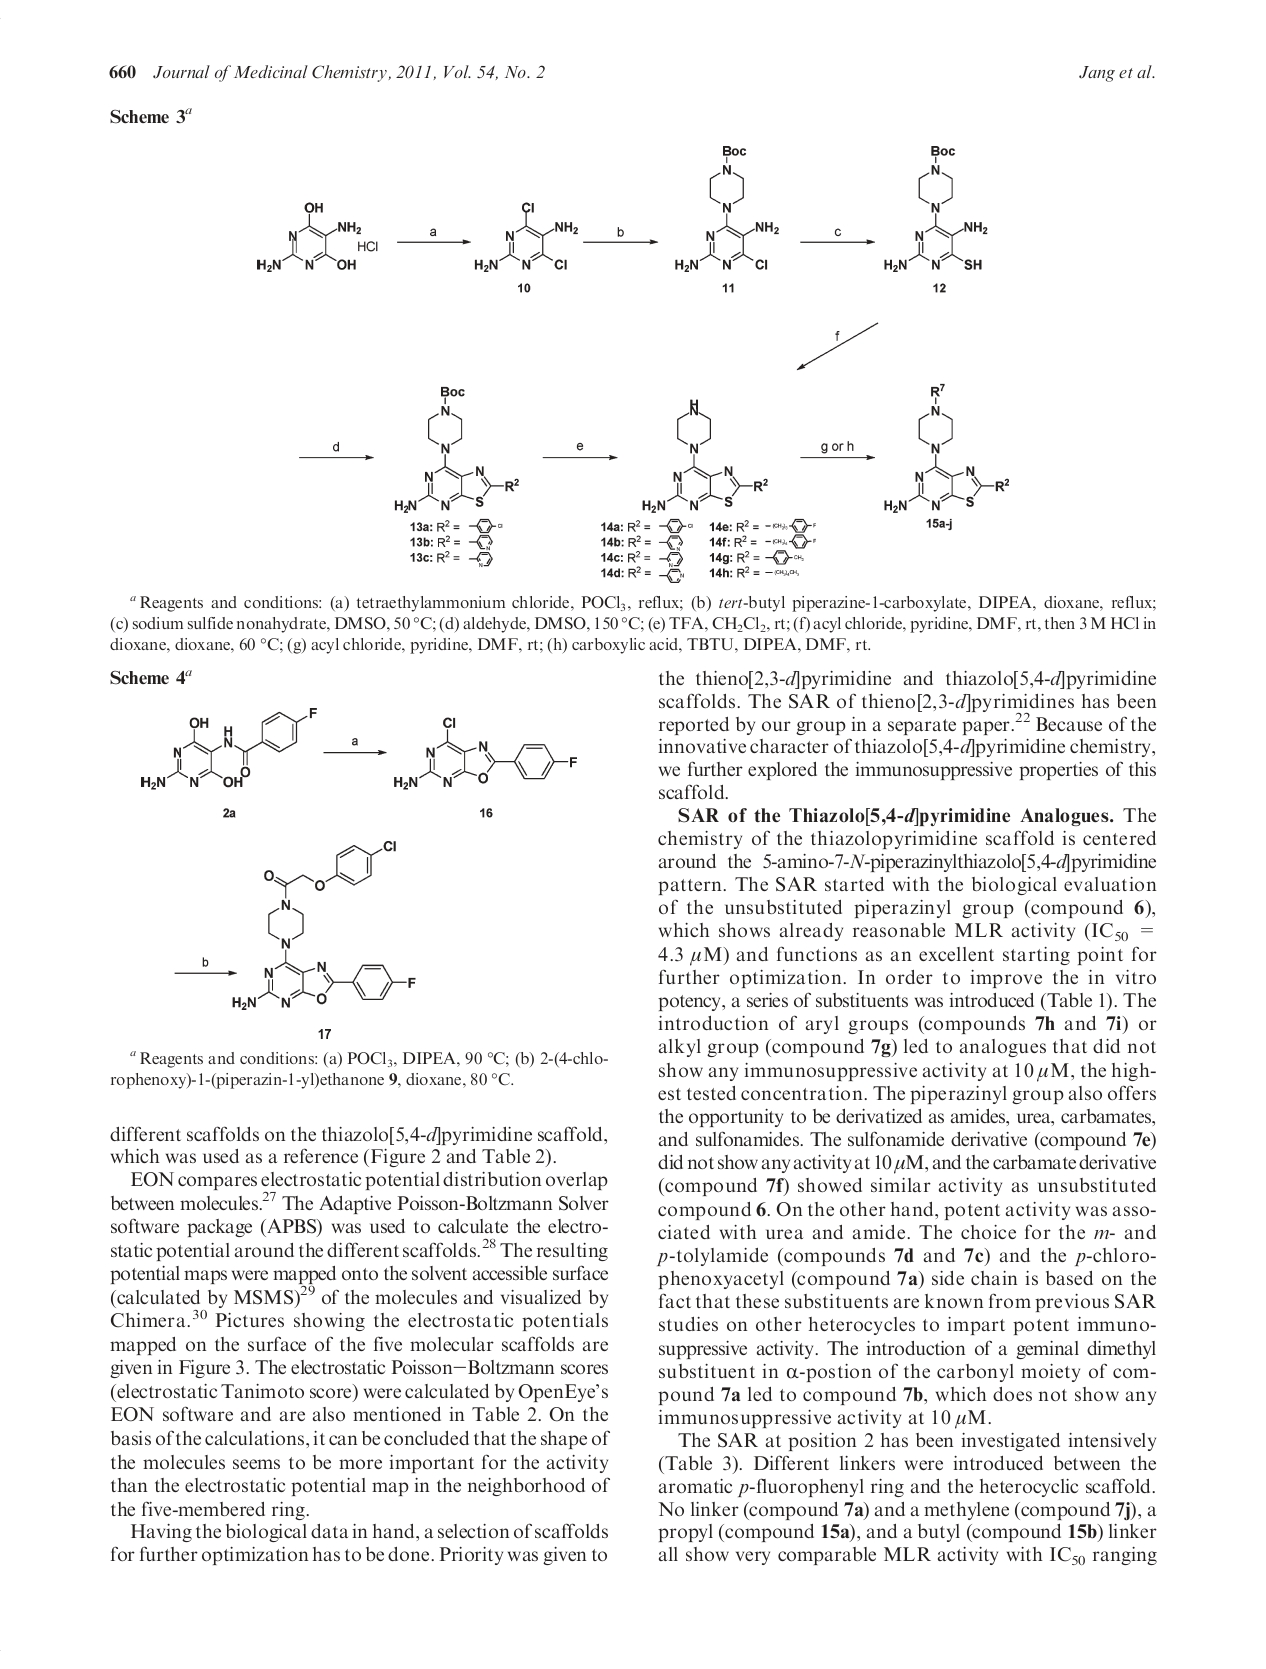exist_molecular: (230, 836, 418, 1012), (394, 380, 527, 515), (880, 382, 1015, 513), (136, 706, 320, 795), (640, 396, 769, 517), (392, 711, 581, 793), (673, 140, 781, 277), (882, 142, 989, 278), (254, 195, 364, 277), (471, 201, 584, 274), (765, 516, 817, 535), (763, 535, 819, 551), (467, 517, 504, 535), (763, 551, 805, 565), (657, 519, 694, 535), (656, 567, 688, 585), (465, 551, 497, 568), (465, 535, 496, 551), (658, 551, 685, 567), (660, 535, 685, 551)
